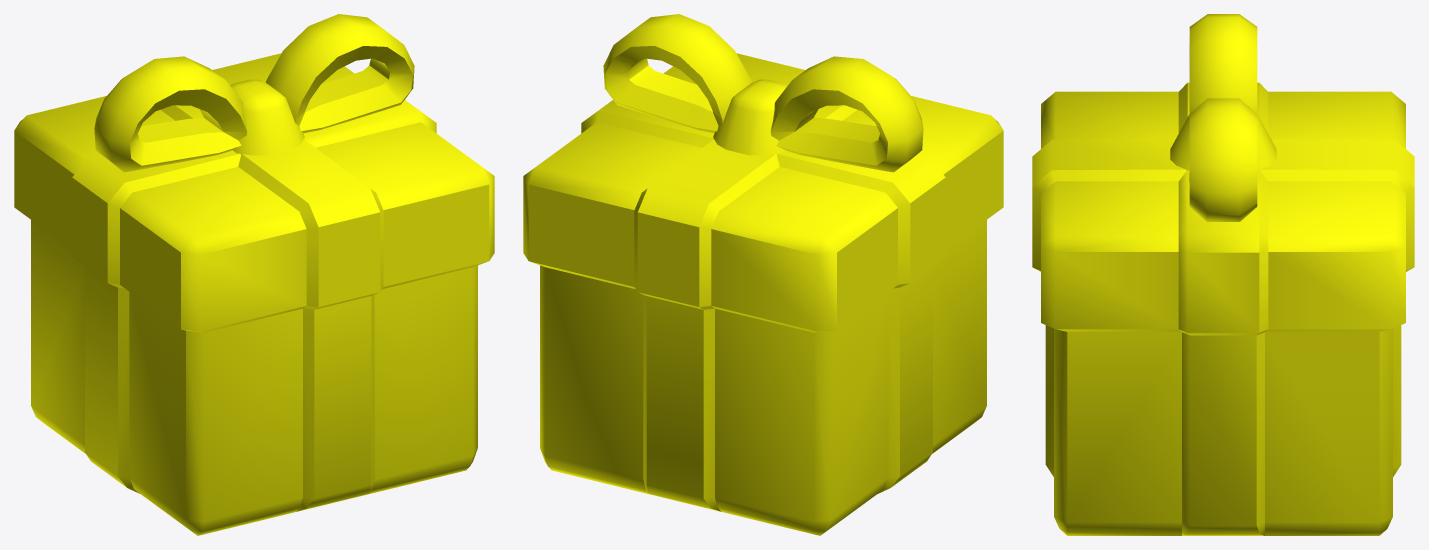
Rendered from kaykit-present-a-red.glb.
3 renders of one model, left to right at view 1: azimuth 30°, elevation 25°; view 2: azimuth 150°, elevation 25°; view 3: azimuth 270°, elevation 25°, orthographic.
Parts seen in each view (by area): view 1: present_A_red; view 2: present_A_red; view 3: present_A_red.
Boxes of the visible parts, x1,y1,x2,y2 form: present_A_red: (14, 14, 494, 535); present_A_red: (523, 14, 1003, 535); present_A_red: (1032, 14, 1414, 535).
Bounding box in the file's own units: 0.5637 × 0.6617 × 0.5637.
